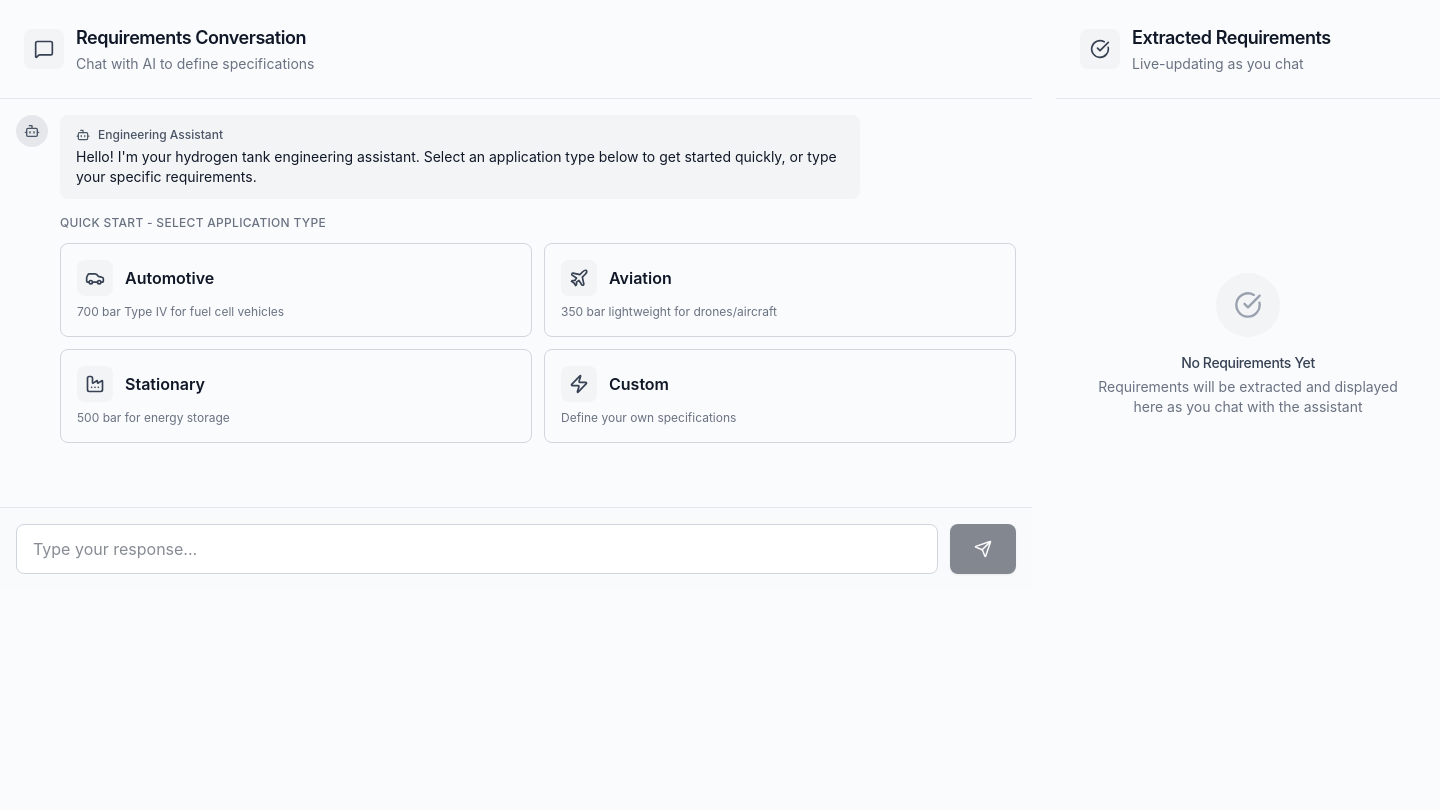
Scenario: RequirementsChat › allows editing extracted requirements
// Send message to get requirements
Type "Test" into the field labelled "Type your response". click: [477, 549]
box: [16,524,938,574]
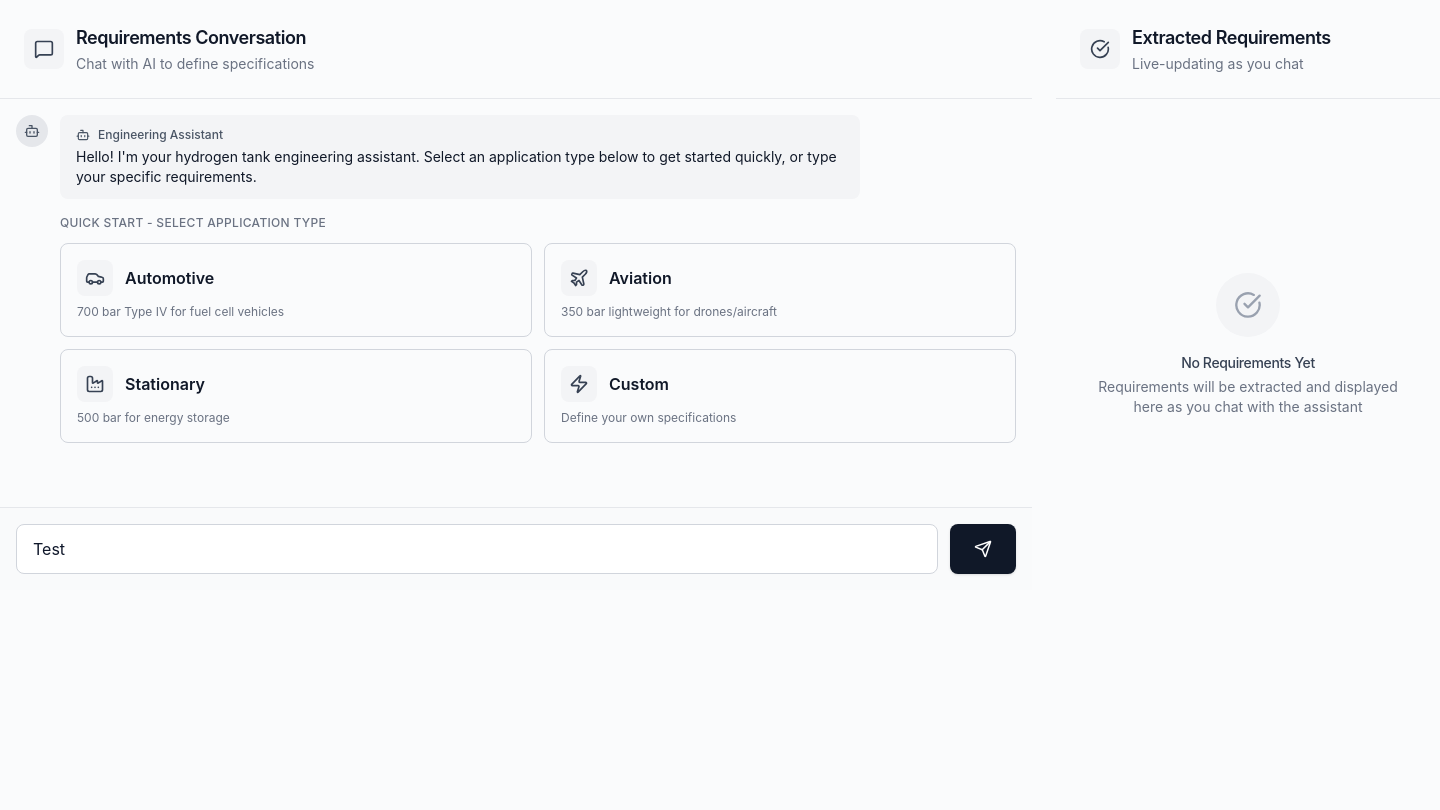
Click the button named "send message". click: [983, 549]
box: [950,524,1016,574]
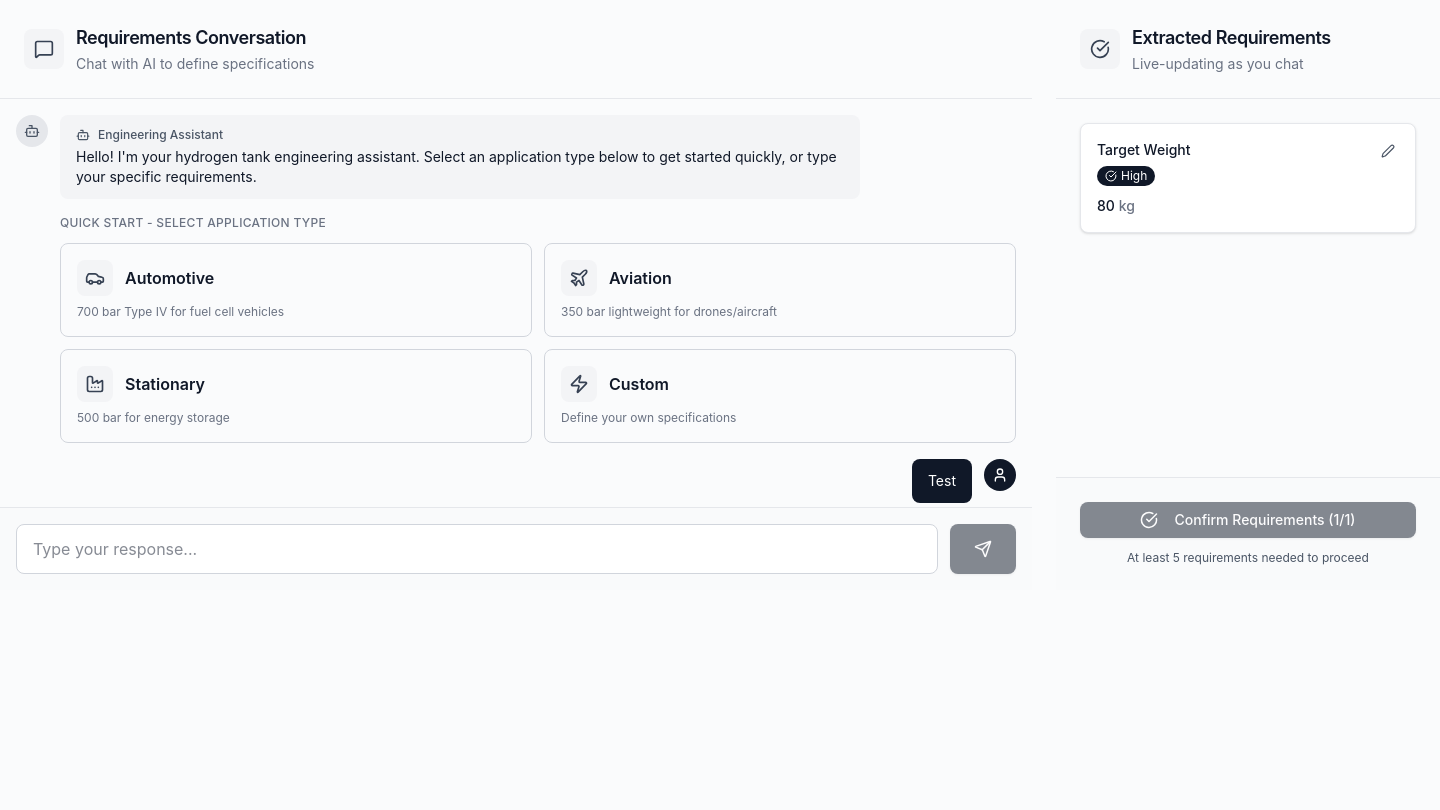
Check: the text "Target Weight" is shown, box [1097,141,1191,158]
// Click edit button
Click the button named "edit target weight". click: [1388, 151]
box: [1377,140,1399,162]
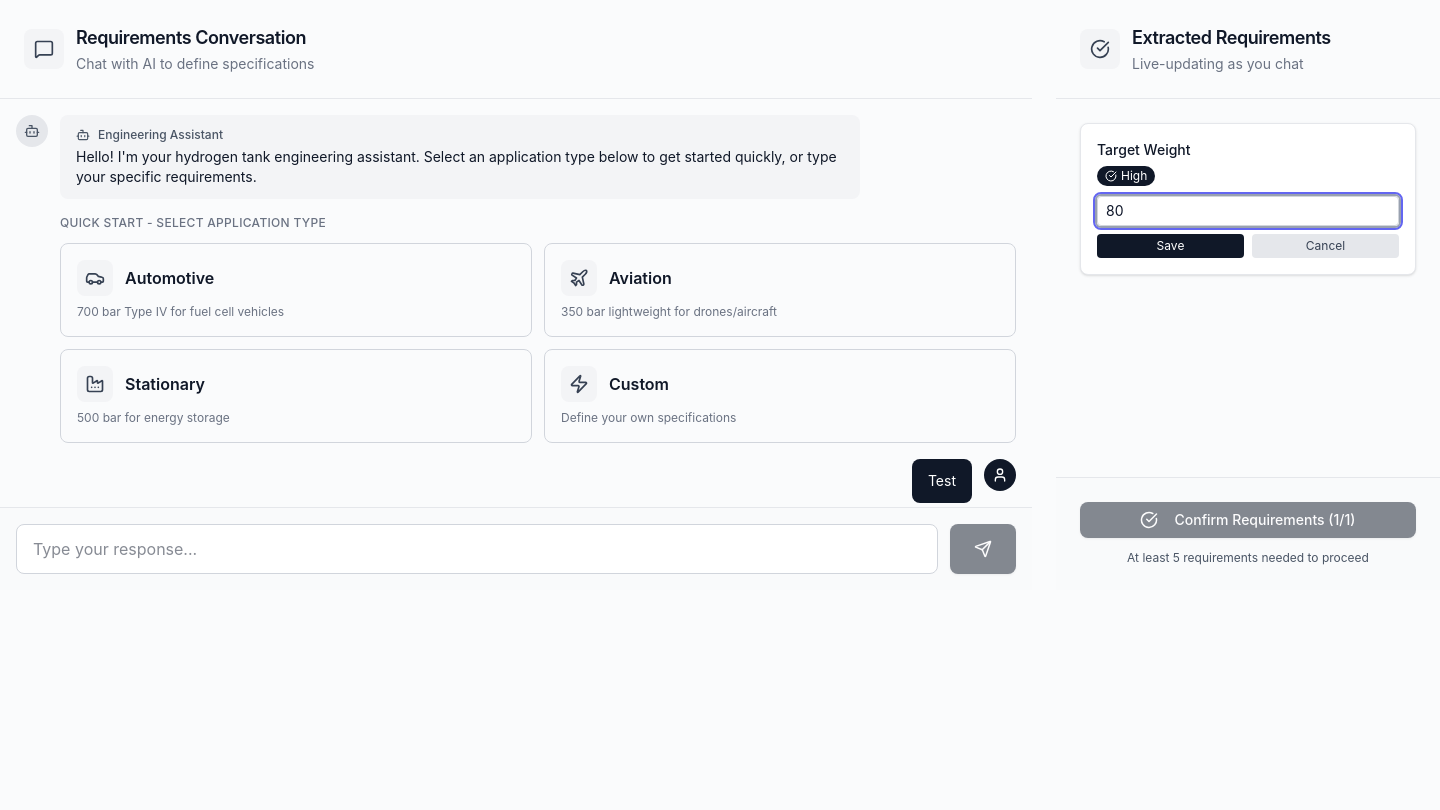
Check: the field named "Edit Target Weight" holds "80"
// Change value
Replace the text in the field named "Edit Target Weight" with "90". click: [1248, 211]
box: [1097,196,1399,226]
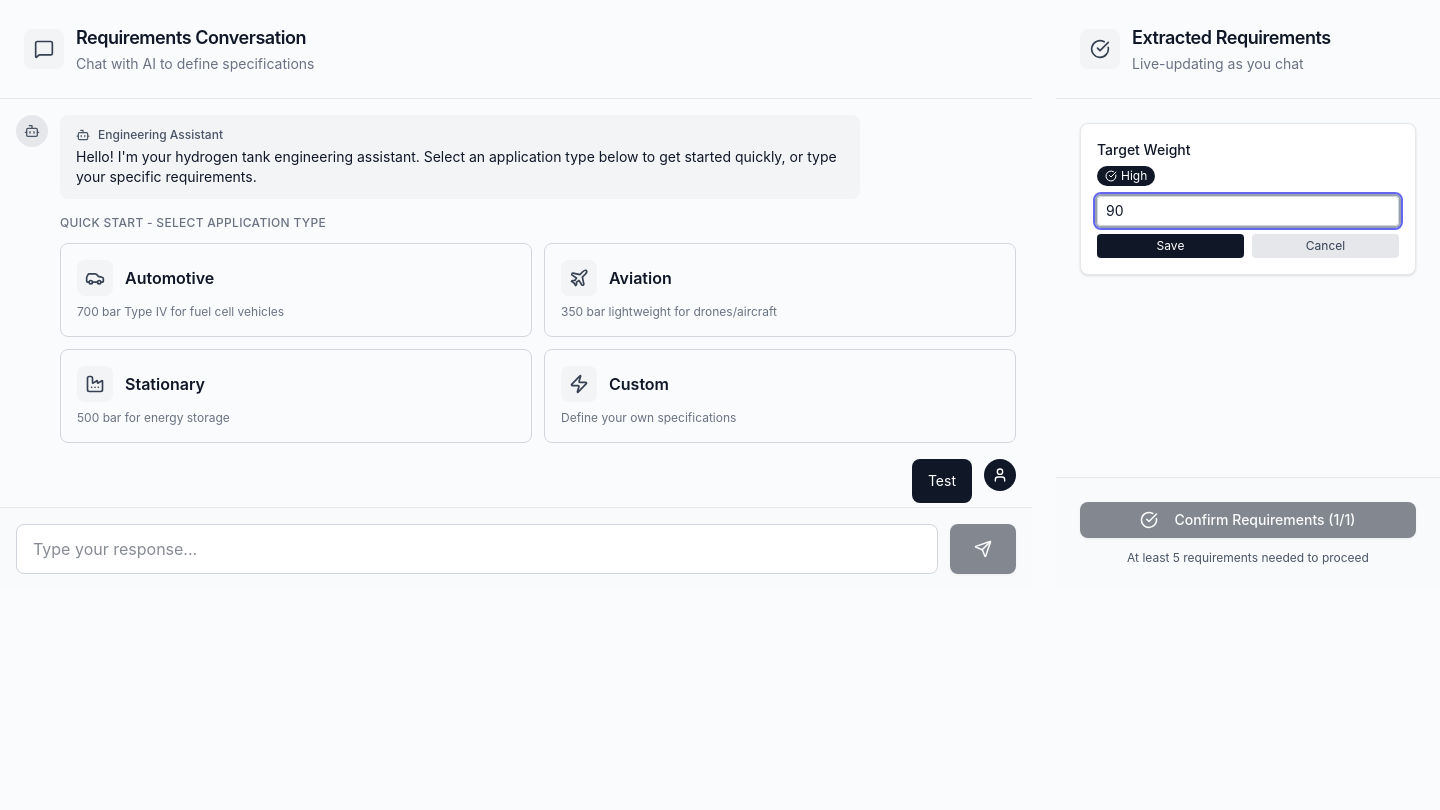
// Click save
Click the button "Save". click: [1170, 246]
box: [1097,234,1244,258]
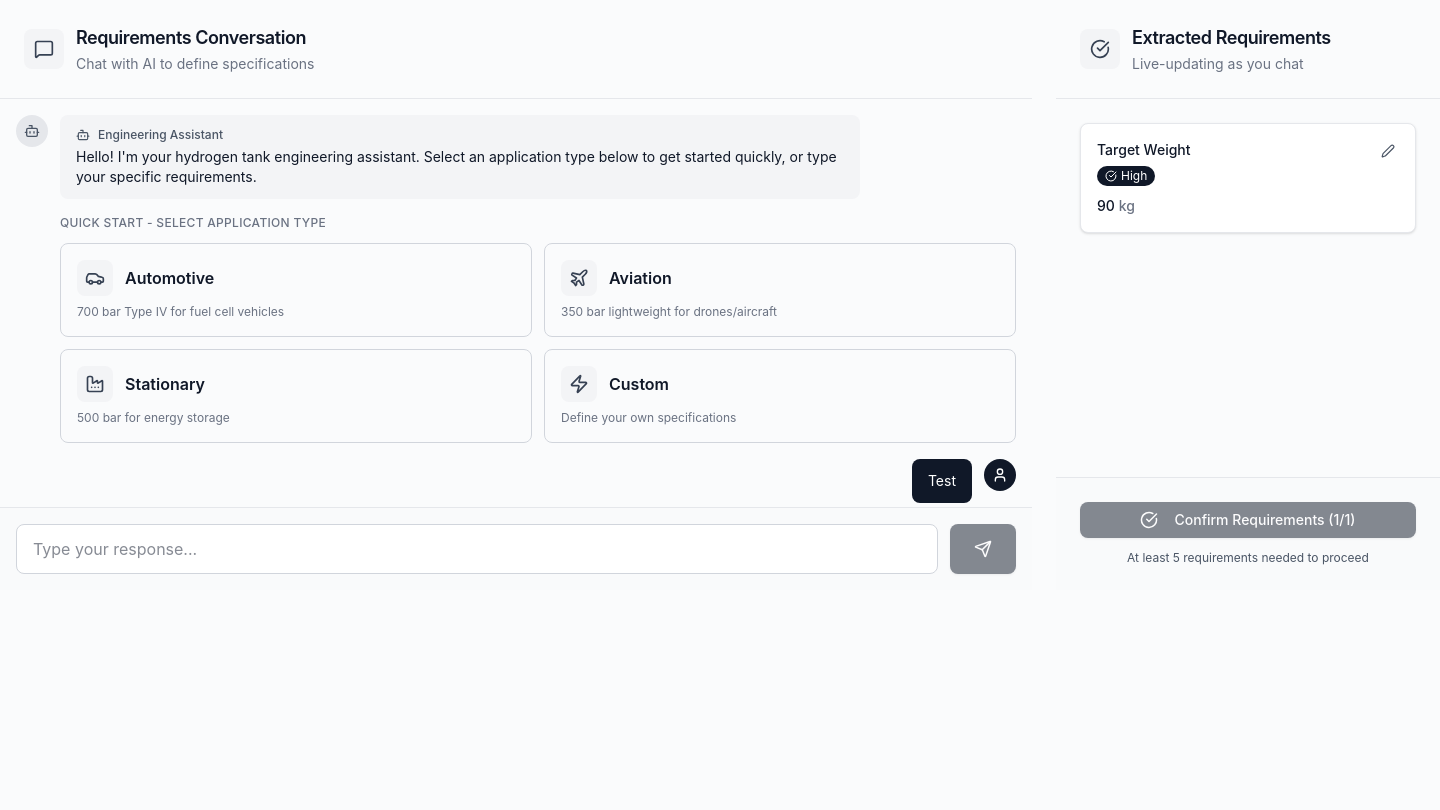
Check: the text "90" is shown, box [1097,197,1115,214]
